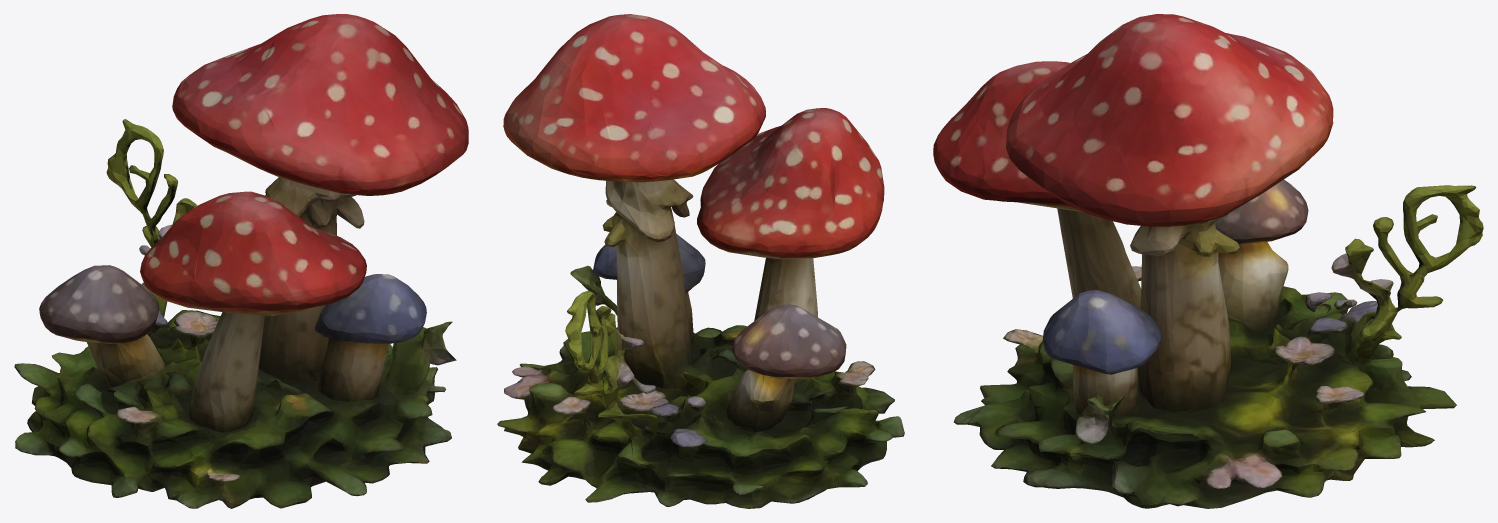
3 views of the same model, side by side, from view 1: azimuth 30°, elevation 25°; view 2: azimuth 150°, elevation 25°; view 3: azimuth 270°, elevation 25° (orthographic). The views are drawn at different scales.
Parts seen in each view (by area): view 1: world; view 2: world; view 3: world.
Boxes of the visible parts, box(x1,y1,x2,y2) form: world: box(14, 14, 468, 508); world: box(497, 14, 904, 508); world: box(933, 14, 1483, 508).
Size of the model in its own units: 0.9356 by 0.8938 by 0.9987.
1 material, 1 textured.
